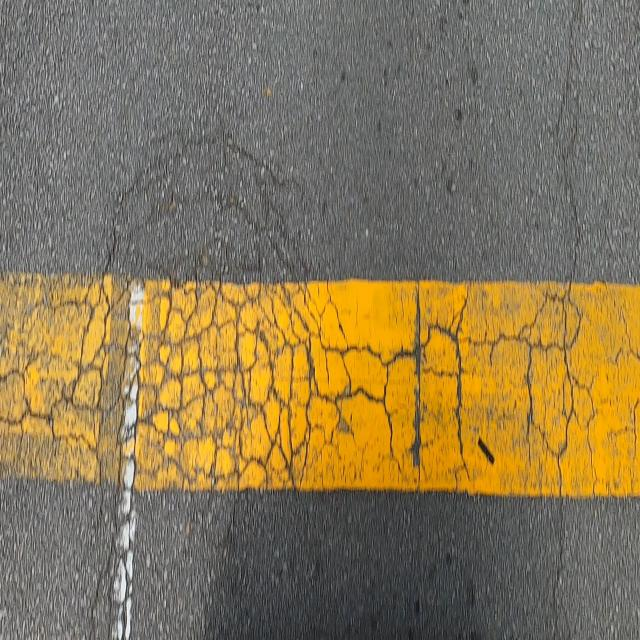Retak-Buaya: (2, 129, 640, 496)
Retak-Memanjang: (548, 0, 590, 286), (550, 503, 569, 638)
